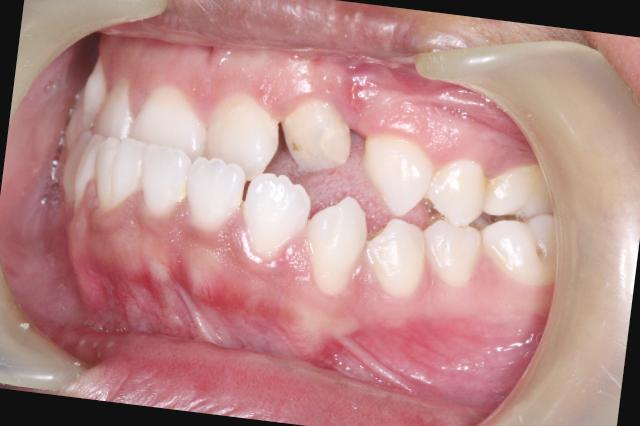molar class II 3/4: (471, 156, 569, 294)
